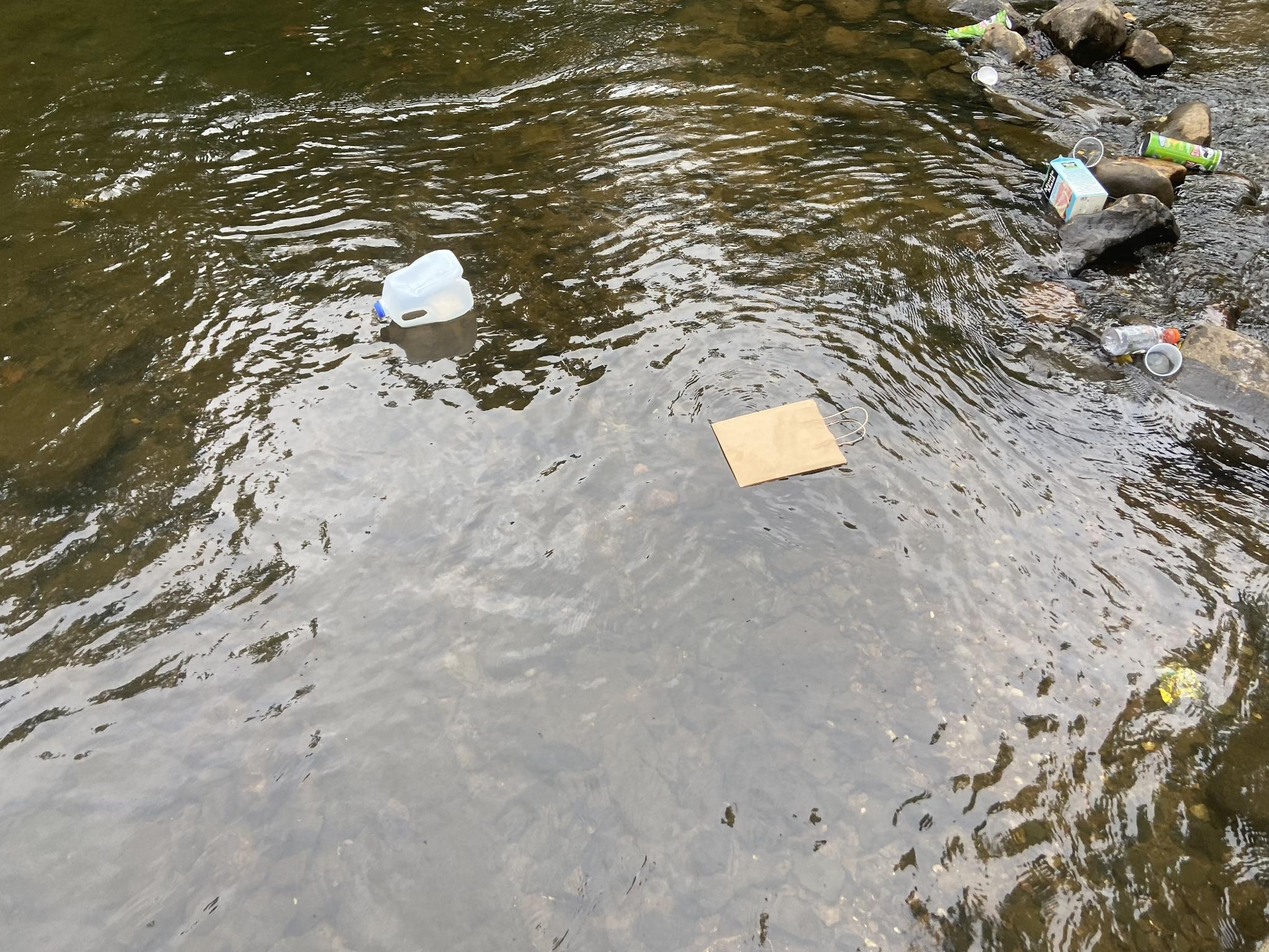cardboard: (1040, 151, 1110, 222)
metal: (1132, 125, 1225, 179), (943, 7, 1022, 46)
paper: (706, 390, 880, 494), (966, 62, 1007, 90)
plastic: (365, 233, 480, 341), (1096, 320, 1184, 354), (1137, 340, 1190, 382), (1061, 130, 1113, 171)
